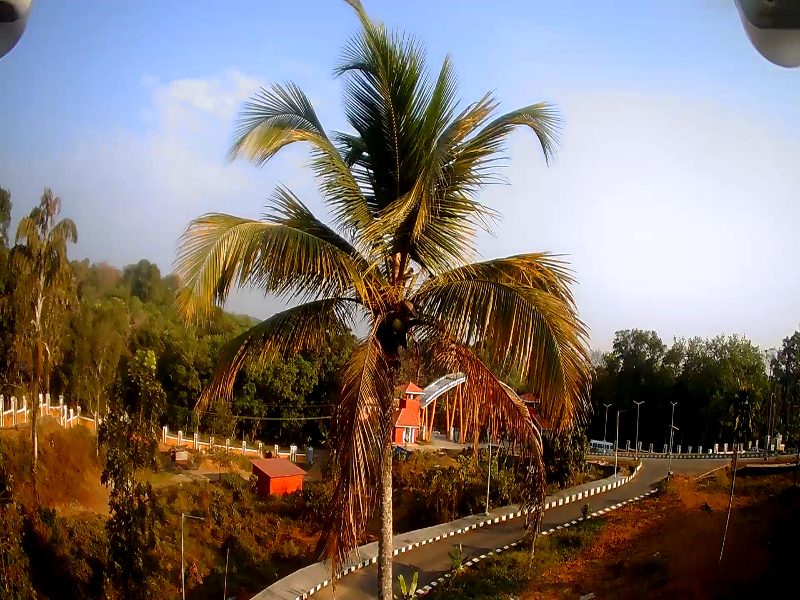coconut: (391, 315, 401, 330)
